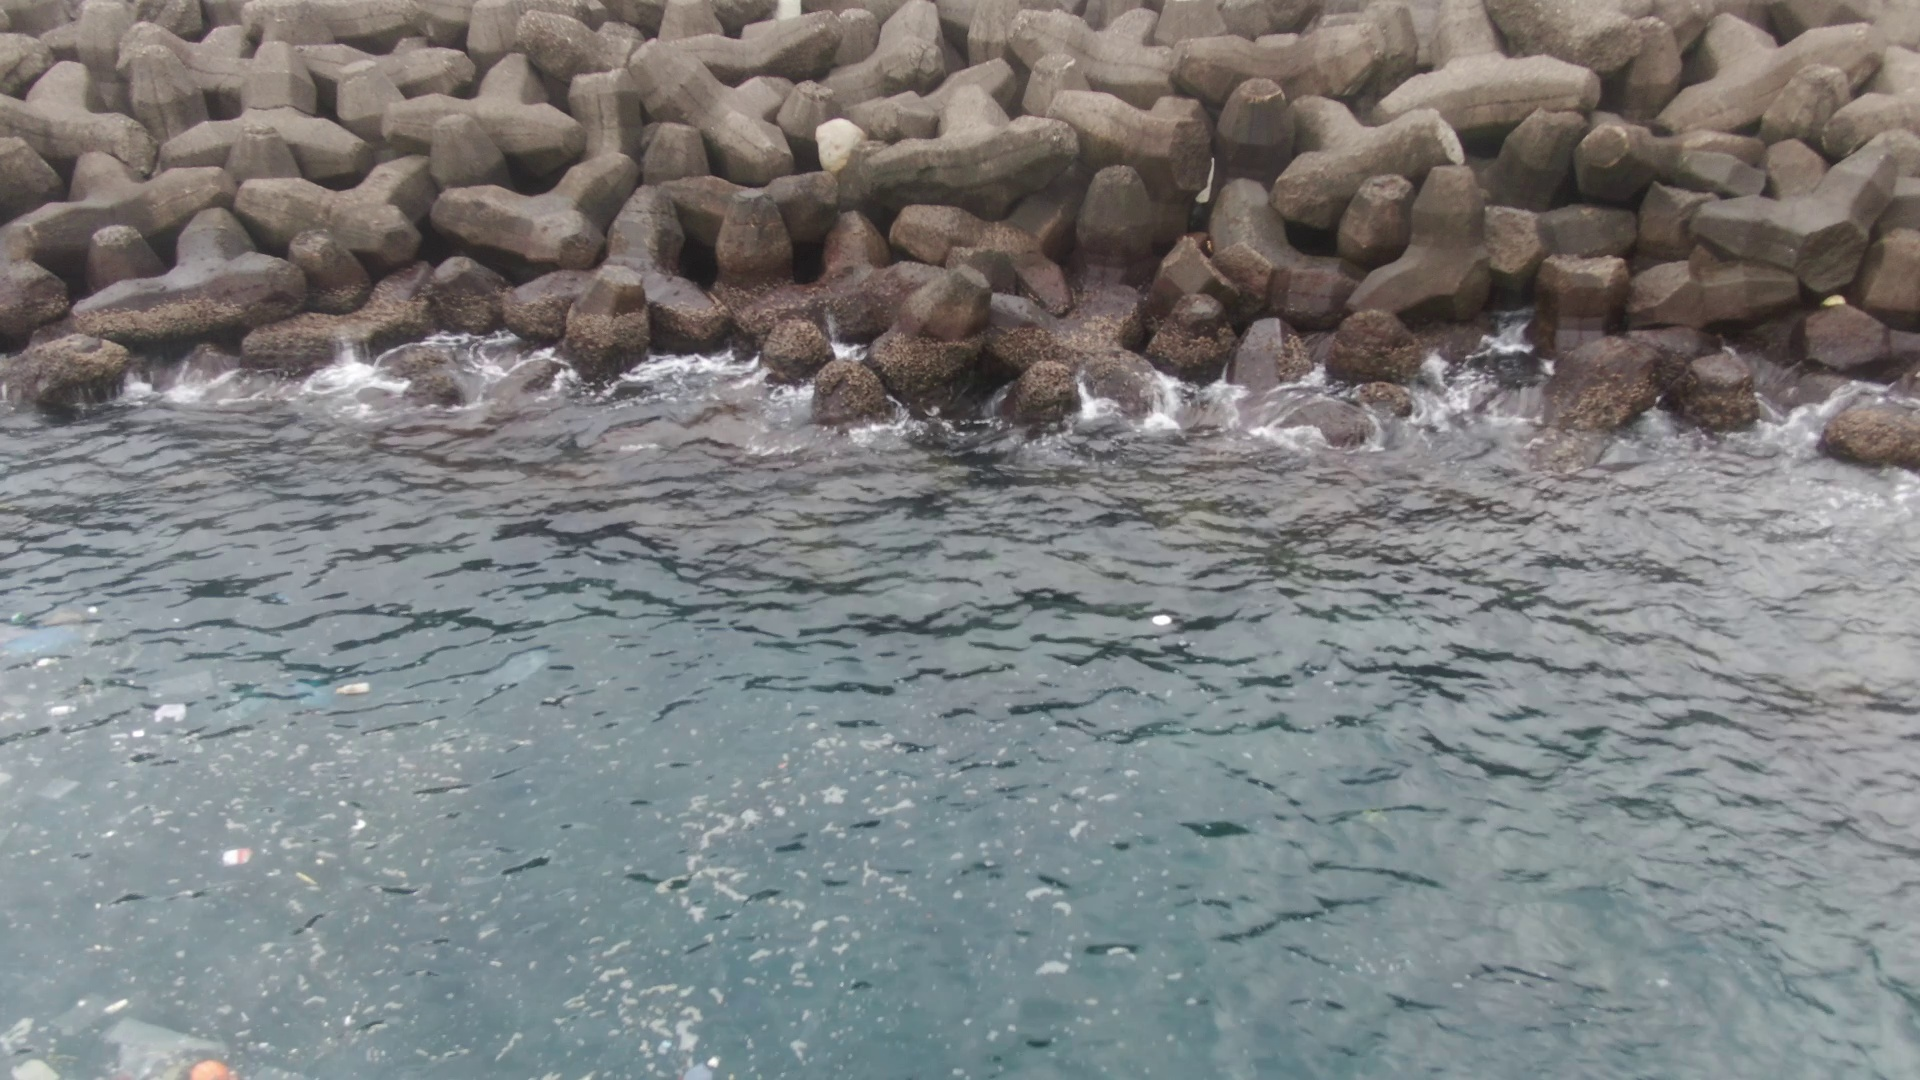garbage: (170, 1048, 237, 1080)
